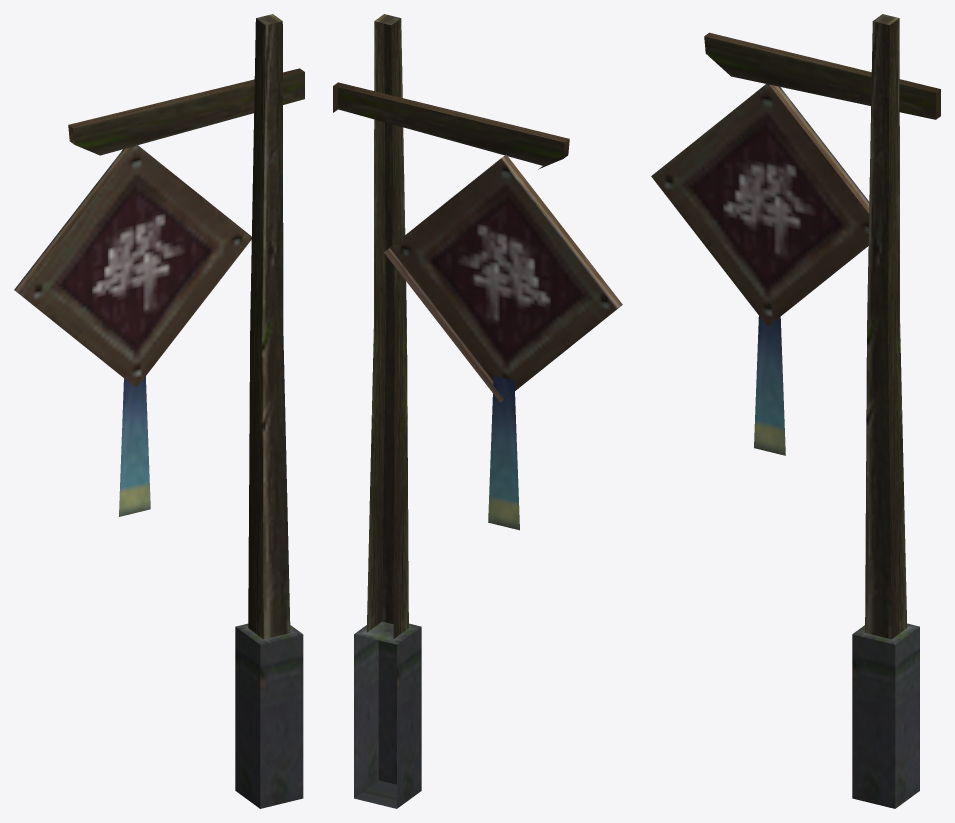
File: zc_erhai_paizi01.FBX
The picture shows the model from 3 angles, left to right: view 1: azimuth 30°, elevation 25°; view 2: azimuth 150°, elevation 25°; view 3: azimuth 330°, elevation 25°; orthographic projection.
Visible parts, largest first — view 1: zc_erhai_paizi01; view 2: zc_erhai_paizi01; view 3: zc_erhai_paizi01.
Boxes of the visible parts, left/top/right/bottom form: zc_erhai_paizi01: left=14, top=14, right=304, bottom=808; zc_erhai_paizi01: left=333, top=14, right=622, bottom=808; zc_erhai_paizi01: left=651, top=14, right=940, bottom=808.
Size of the model in its own units: 101 by 262 by 15.67.
